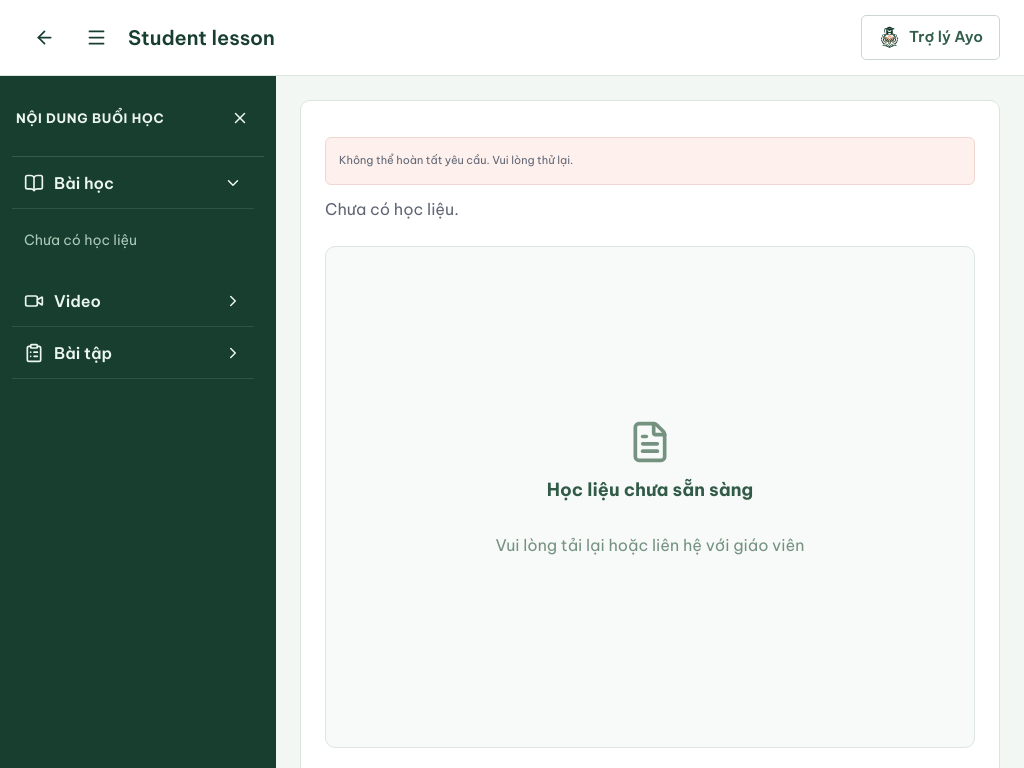
Test case: uses the same session layout for students without teacher management actions
The width and height of the screenshot is (1024, 768).
Expected: the heading "Student lesson" is shown, [128,22,275,52]
Expected: the navigation bar "NỘI DUNG BUỔI HỌC" is shown, [0,76,276,767]
Click the button "Trợ lý Ayo": {"x": 931, "y": 38} [861,15,1000,60]
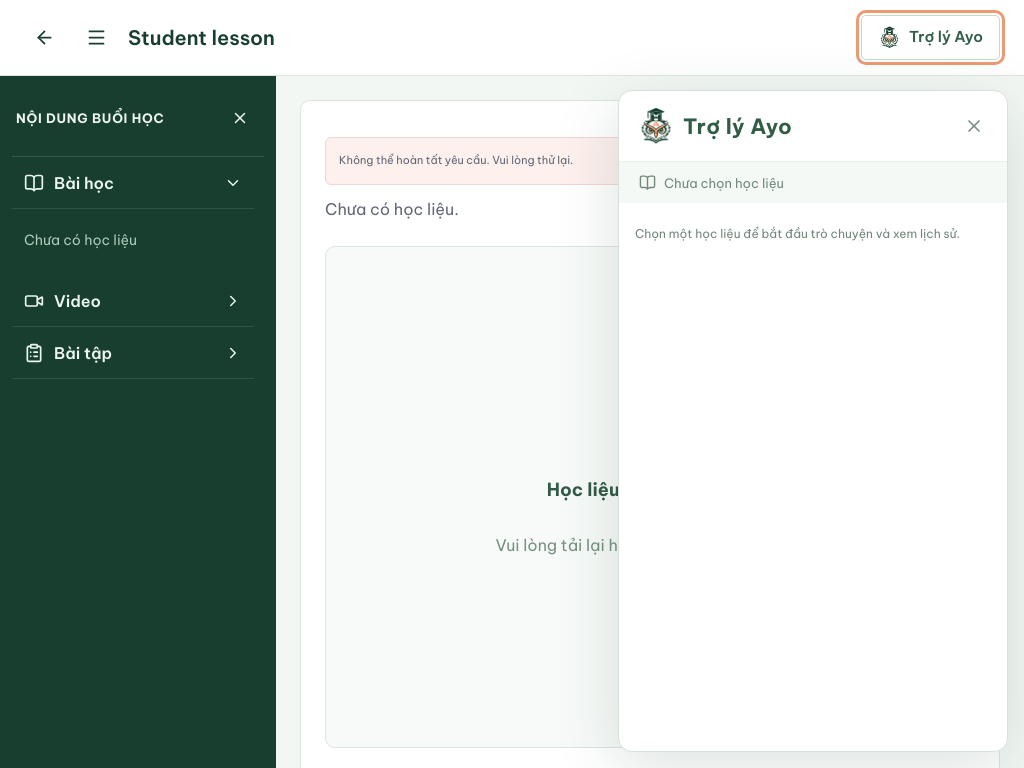
Now the element named "Trợ lý Ayo — Bạn đồng hành học tập" is shown, box [618,90,1008,752]
